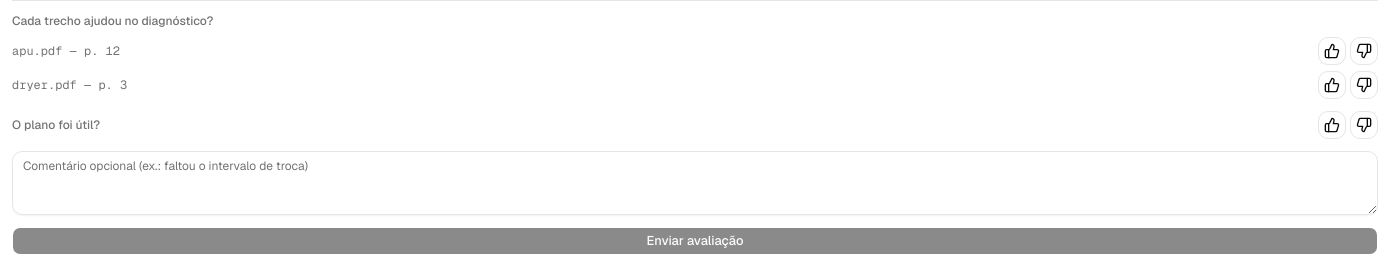
SuggestionFeedback › só habilita o envio depois da resposta sobre a utilidade
Expected: the button "Enviar avaliação" is disabled, [12,227,1378,255]
Click the button named "Plano: relevante" at (1332, 125), box [1318,111,1346,139]
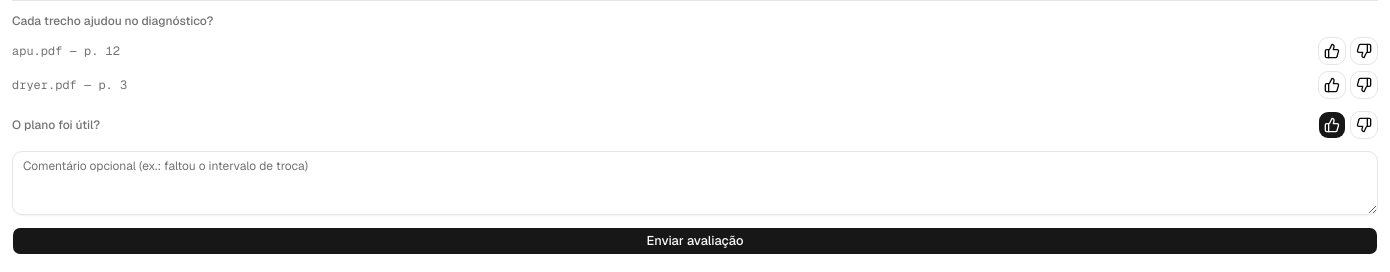
Expected: the button "Enviar avaliação" is enabled, [12,227,1378,255]
